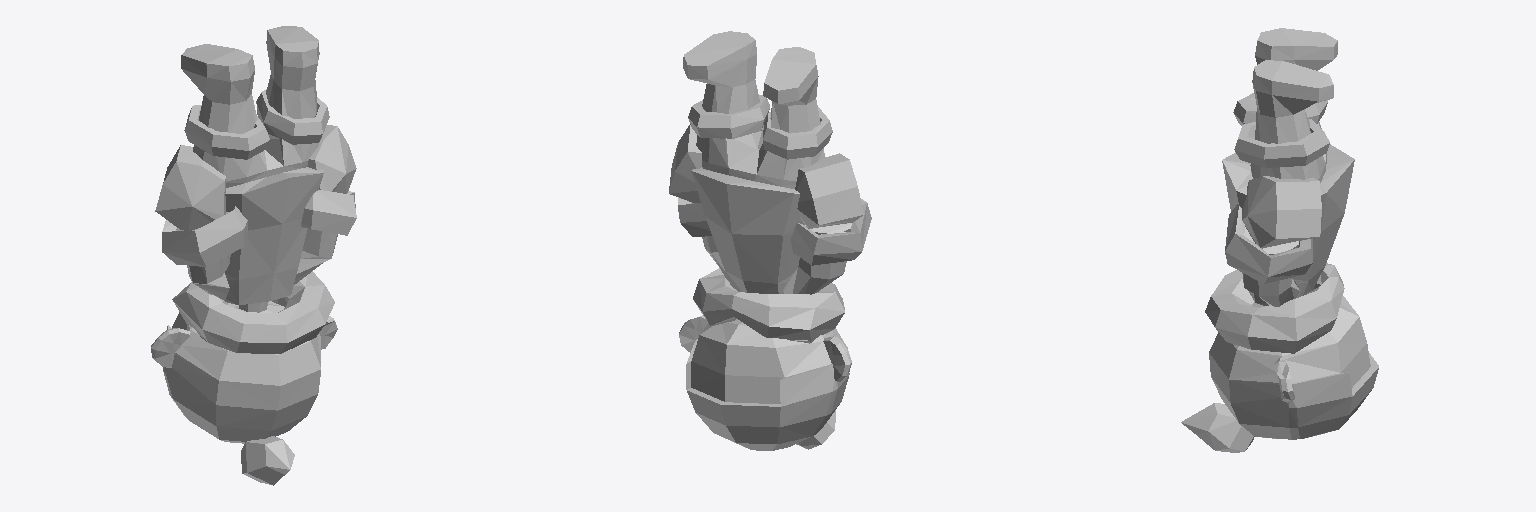
Rendered from eikastanding_000401.obj.
3 renders of one model, left to right at view 1: azimuth 30°, elevation 25°; view 2: azimuth 150°, elevation 25°; view 3: azimuth 270°, elevation 25°, orthographic.
Visible parts, largest first — view 1: Cylinder; view 2: Cylinder; view 3: Cylinder.
Part boxes in pixels (left/top/right/bottom): Cylinder: left=151, top=26, right=356, bottom=485; Cylinder: left=669, top=31, right=871, bottom=450; Cylinder: left=1181, top=28, right=1378, bottom=452.
Bounding box in the file's own units: 27.59 × 55.15 × 24.16.